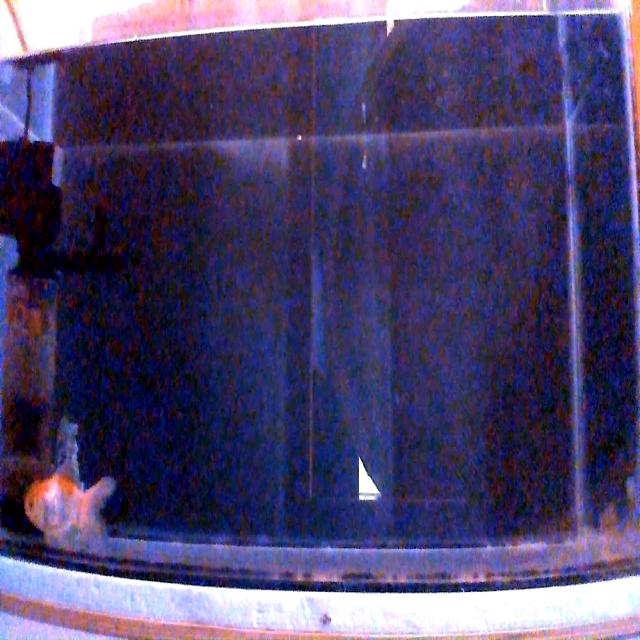fish: (23, 459, 117, 549)
